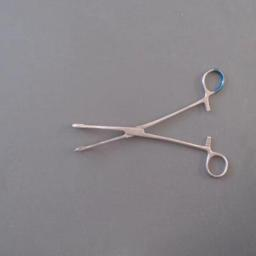Sponge Forceps: (66, 62, 232, 184)
